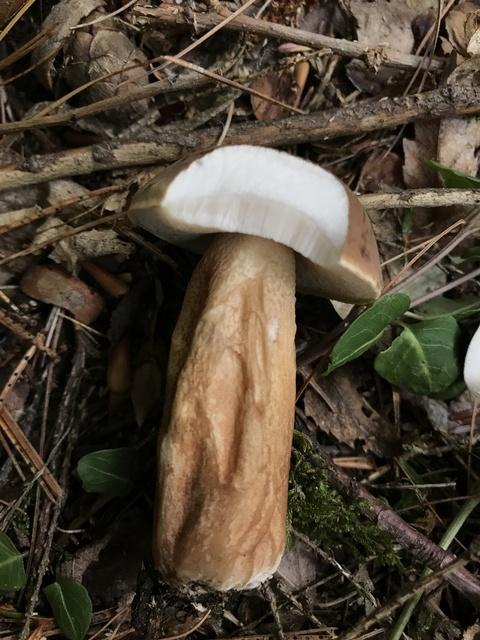Non-edible Mushroom: (126, 142, 383, 595)
